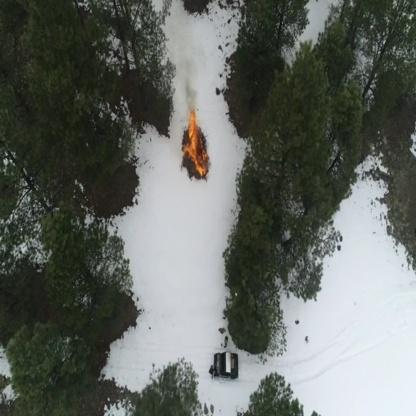Fire: (180, 106, 210, 179)
